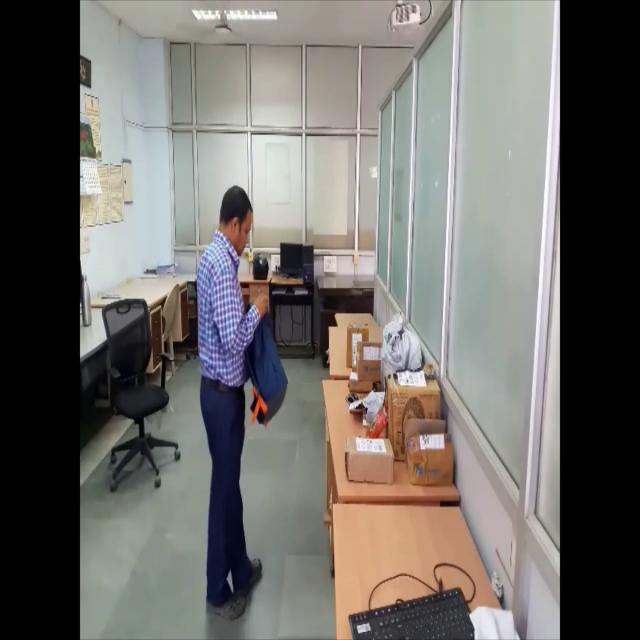shoplifting: (190, 168, 292, 633)
